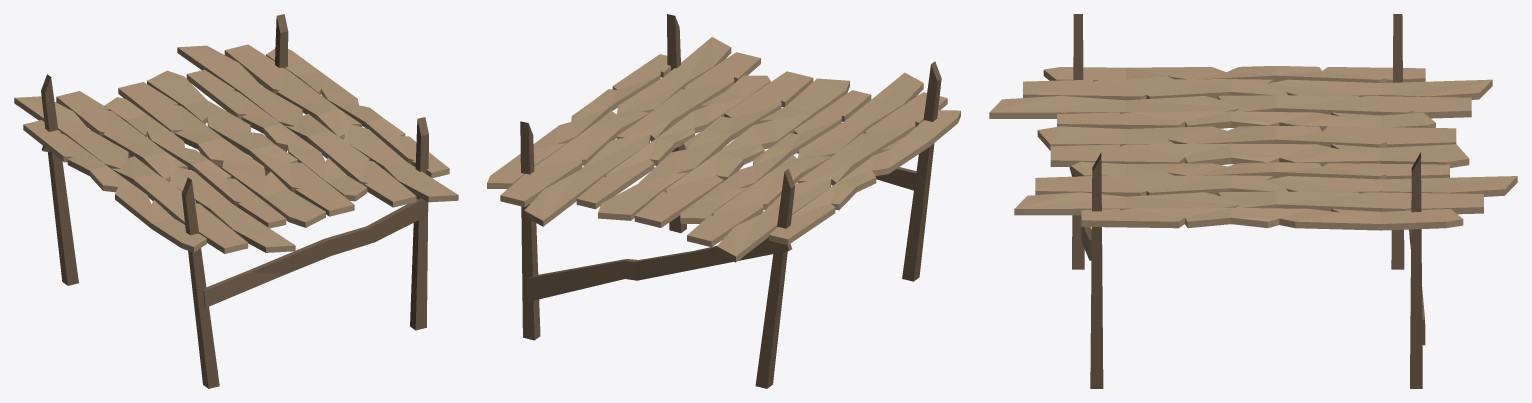
The model's file is Platform_2.fbx.
3 renders of one model, left to right at view 1: azimuth 30°, elevation 25°; view 2: azimuth 150°, elevation 25°; view 3: azimuth 270°, elevation 25°, orthographic. The views are drawn at different scales.
Parts seen in each view (by area): view 1: Platform_2; view 2: Platform_2; view 3: Platform_2.
Boxes of the visible parts, left/top/right/bottom form: Platform_2: left=14, top=14, right=458, bottom=388; Platform_2: left=487, top=14, right=960, bottom=388; Platform_2: left=989, top=14, right=1517, bottom=388.
Bounding box in the file's own units: 424 × 304 × 605.
1 material, 1 textured.
